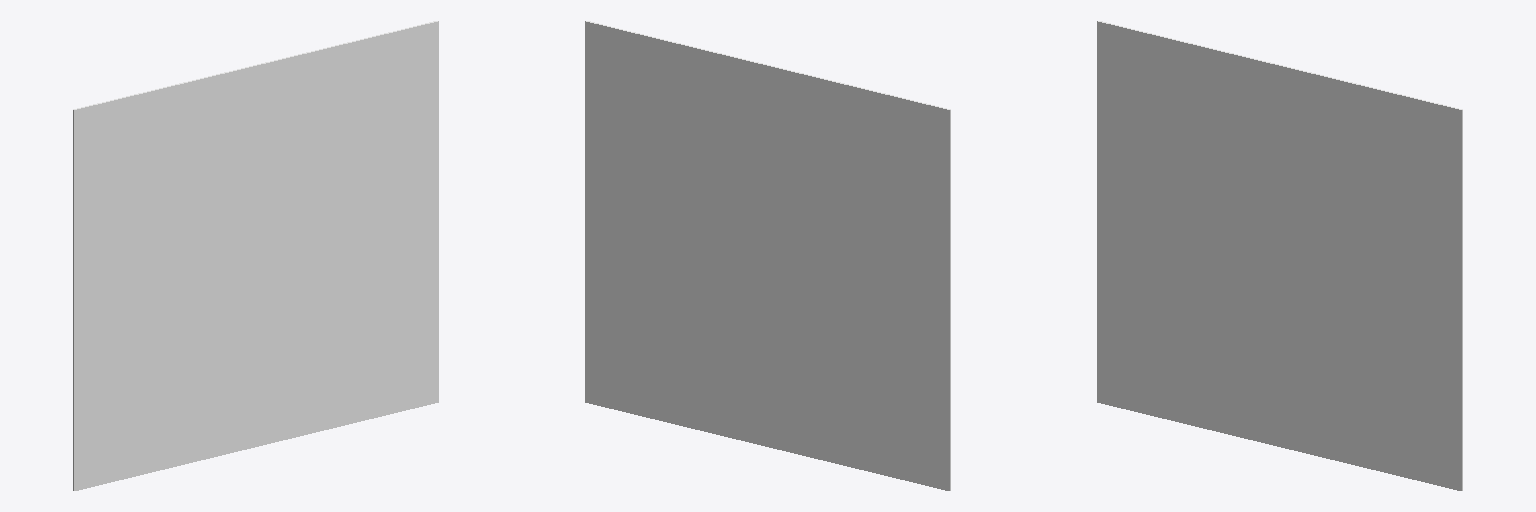
URDF robot description (google_64k):
<?xml version="1.0" ?>
<robot name="google_64k">
  <link name="baseLink">
    <contact>
      <lateral_friction value="0.5"/>
      <rolling_friction value="0.0"/>
      <contact_cfm value="0.0"/>
      <contact_erp value="1.0"/>
    </contact>
    <inertial>
      <origin rpy="0 0 0" xyz="0 0 0"/>
      <limit effort="306" lower="-2.09439510239" upper="2.09439510239" velocity="2.26892802759"/>
      <dynamics damping="0.1"/>
       <mass value="0"/>
	<!-- static base, disable dynamics for this link -->
       <inertia ixx="1" ixy="0" ixz="0" iyy="1" iyz="0" izz="1"/>
    </inertial>
    <visual>
      <origin rpy="0 0 0" xyz="0 0 0"/>
      <geometry>
        <mesh filename="Paper.obj" />
      </geometry>
       <material name="red">
        <color rgba="1 1 1 1"/>
      </material>
    </visual>
    <collision>
      <origin rpy="0 0 0" xyz="0 0 0"/>
      <geometry>
	 	<mesh filename="Paper.obj" />
      </geometry>
    </collision>
  </link>
</robot>

--- Render facts (derived) ---
Views: 3 orthographic renders of the robot side by side, from view 1: azimuth 30°, elevation 25°; view 2: azimuth 150°, elevation 25°; view 3: azimuth 330°, elevation 25°.
Robot: google_64k — 1 links, 0 joints (none); root link baseLink; default pose: all joints at 0.
Links seen in each view (by area): view 1: baseLink; view 2: baseLink; view 3: baseLink.
Boxes of the visible links, x1,y1,x2,y2 form: baseLink: (73,21,438,490); baseLink: (585,21,950,490); baseLink: (1097,21,1462,490).
Bounding box of the posed robot: 20 × 0.1 × 20 m (x, y, z).
Meshes: 1 distinct files referenced, 1 mesh visuals loaded (1 OBJ).